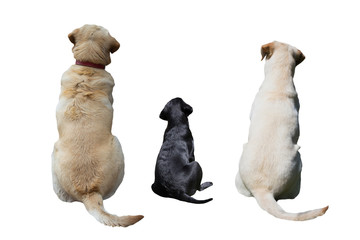dog: (50, 24, 148, 227), (237, 40, 334, 220), (149, 97, 216, 206)
